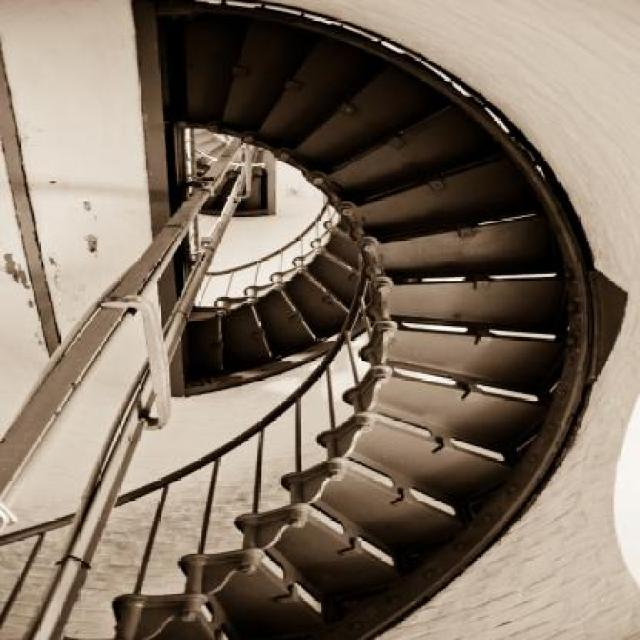stair: (107, 1, 569, 640)
